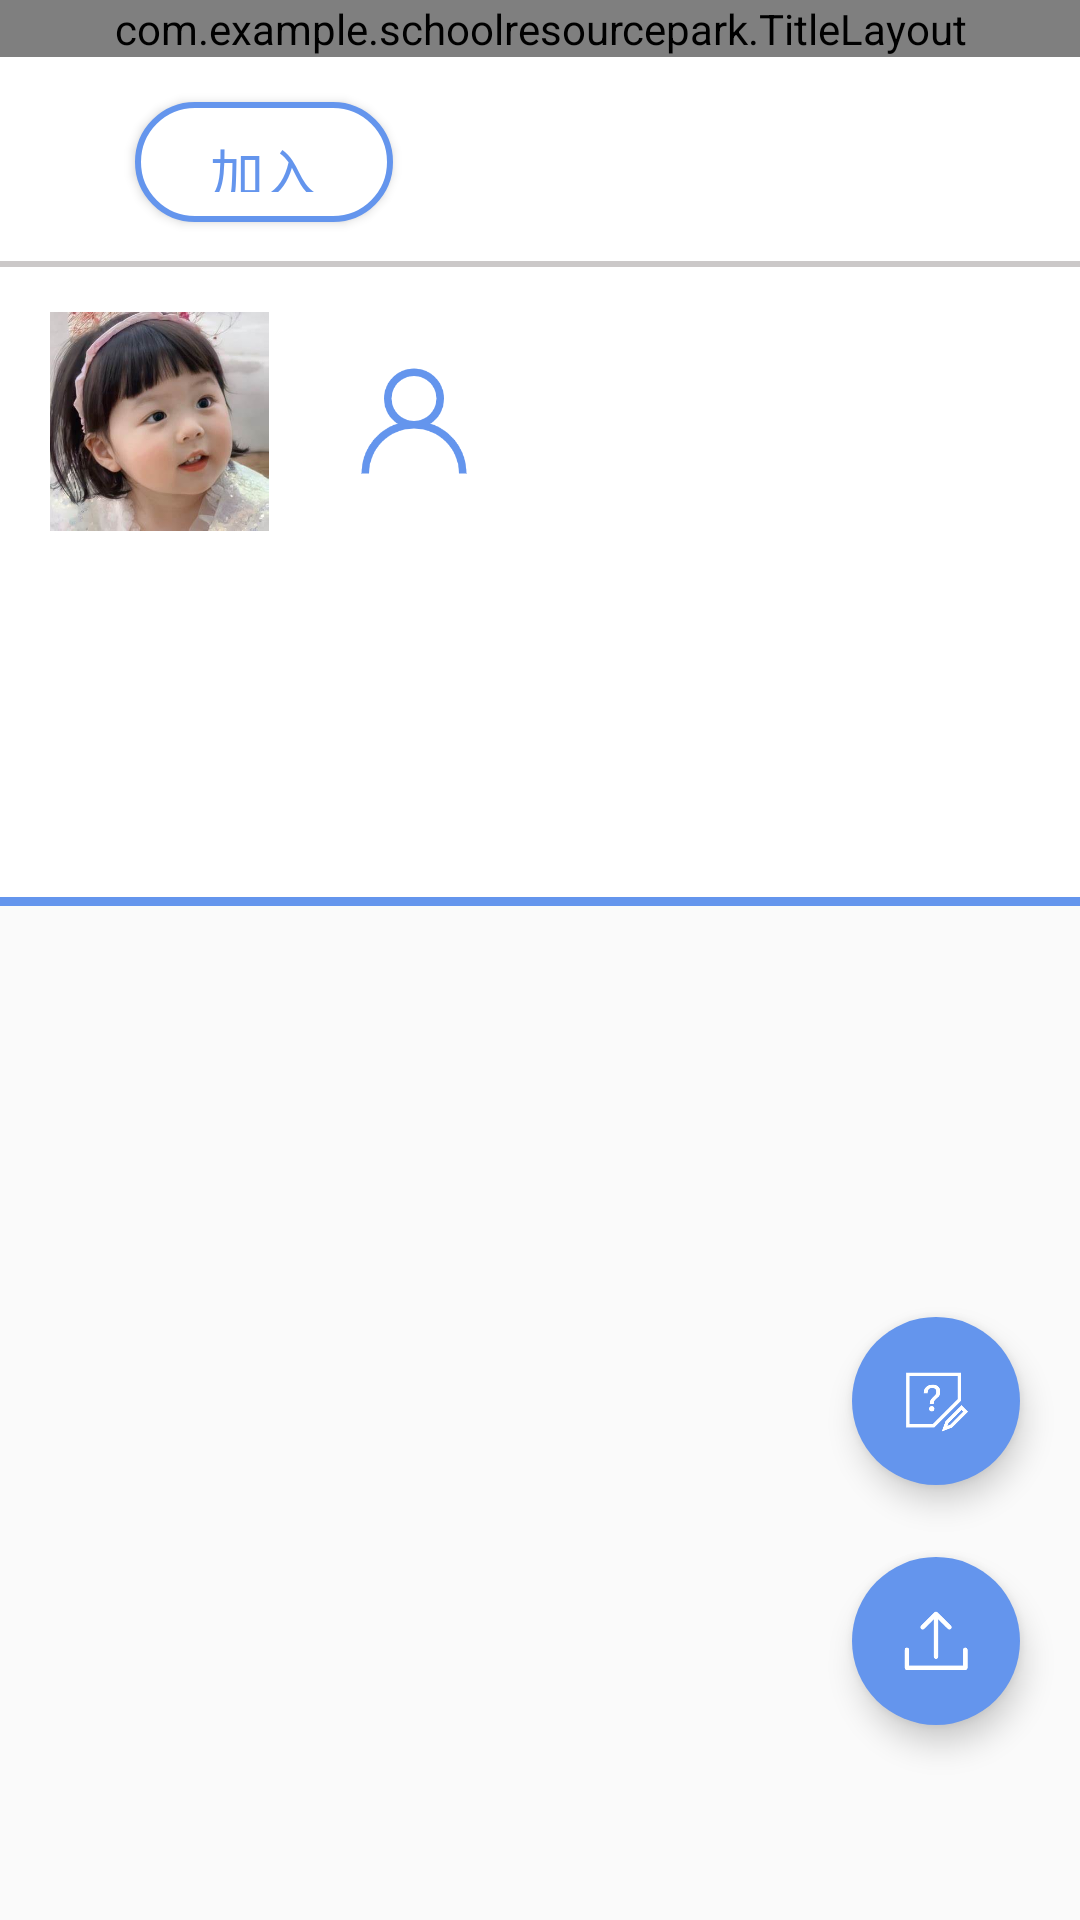

Icon bounding boxes for this 1080px x 1920px phone screenshot, format bbox(x1, y1, x2, y2):
ask: bbox(852, 1317, 1020, 1485)
head: bbox(50, 312, 269, 531)
people: bbox(361, 368, 467, 474)
upload file: bbox(852, 1557, 1020, 1725)
